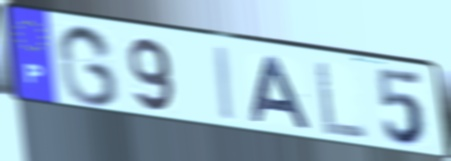5: (375, 68, 433, 150)
9: (126, 35, 177, 114)
A: (250, 55, 315, 132)
G: (55, 23, 122, 109)
I: (214, 44, 238, 125)
L: (313, 58, 370, 142)
